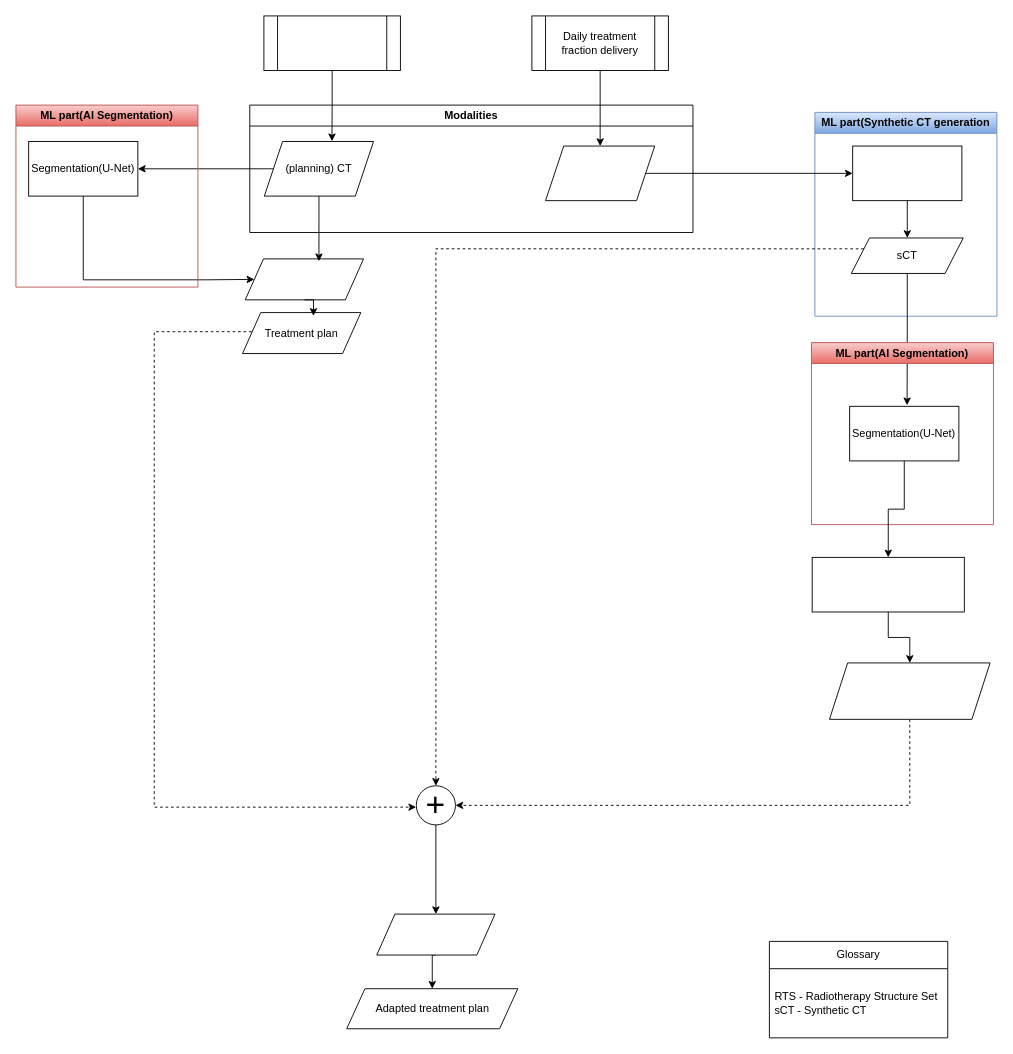
This 1013x1054 diagram has some shape labels left out. Here are the shapes that lost their labels. From the top down, the centre of each, then its label:
At [331,43]: "Treatment planning".
At [600,173]: "CBCT".
At [907,173]: "Generation of CT".
At [304,279]: "RTS".
At [887,584]: "Other adjustments (manual edits, etc.)".
At [909,690]: "Daily RTS".
At [435,934]: "treatment plan reoptimisation".
